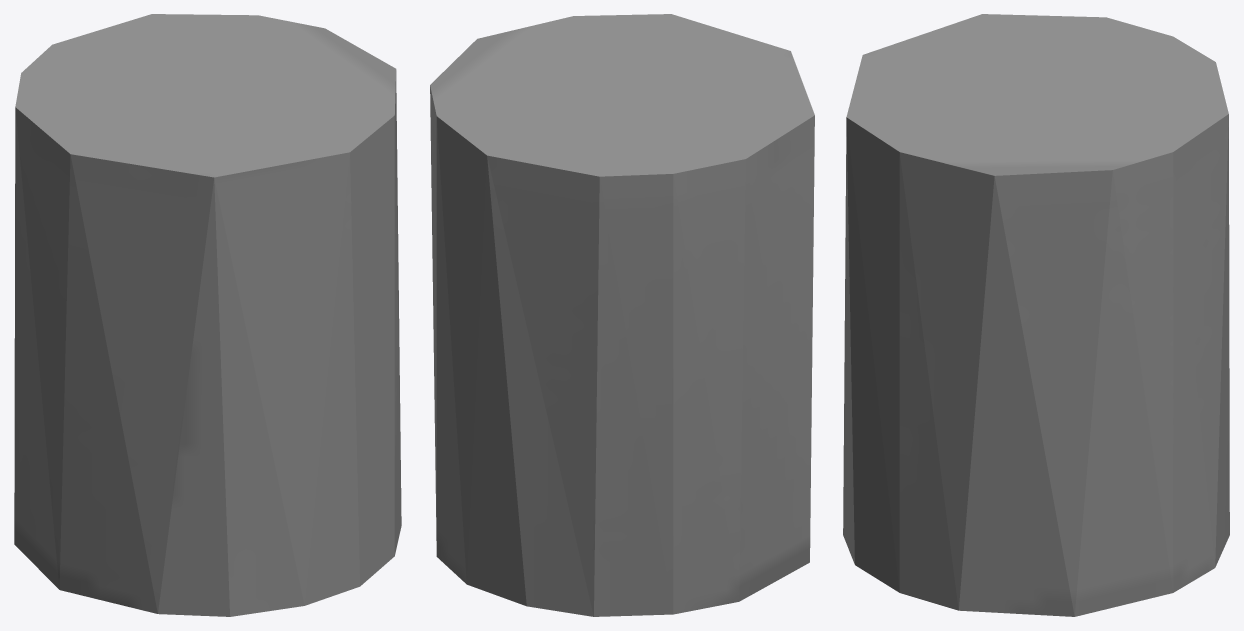
Rendered from metal1_3.dae.
3 views of the same model, side by side, from view 1: azimuth 30°, elevation 25°; view 2: azimuth 150°, elevation 25°; view 3: azimuth 270°, elevation 25° (orthographic).
Visible parts, largest first — view 1: node; view 2: node; view 3: node.
Boxes of the visible parts, x1,y1,x2,y2 form: node: (14,14,401,616); node: (430,14,814,616); node: (843,14,1229,616).
Bounding box in the file's own units: 0.0732 × 0.092 × 0.0731.
1 material, 1 textured.
